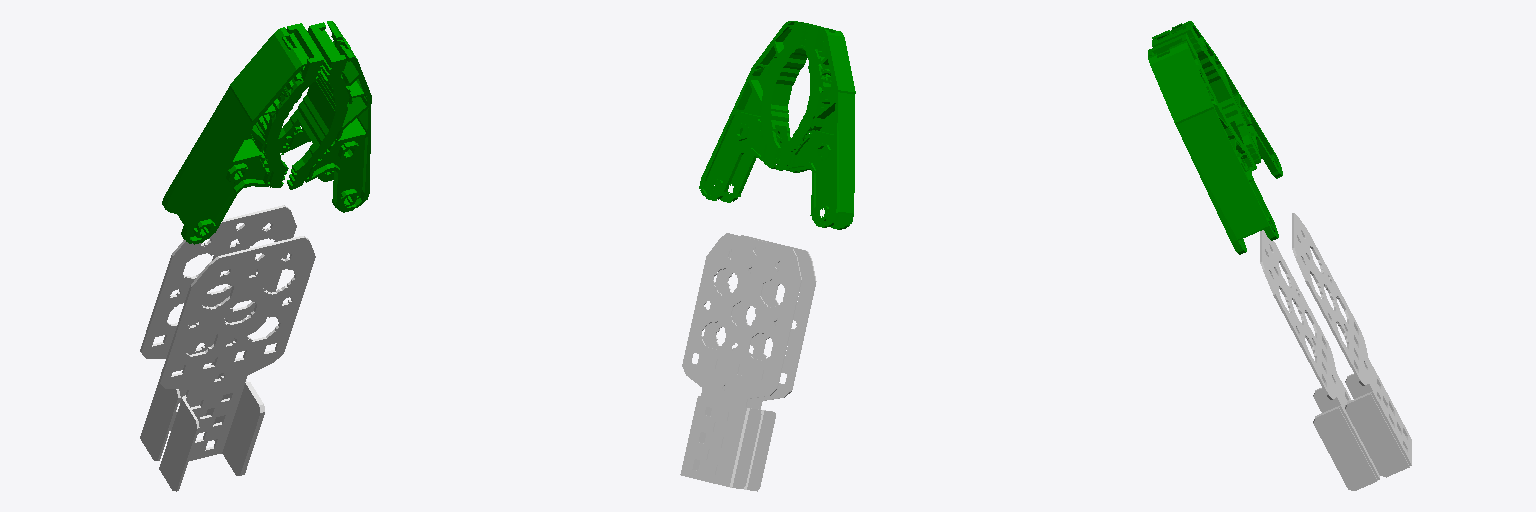
URDF robot description (cobot):
<?xml version="1.0" ?>
<!-- =================================================================================== -->
<!-- |    This document was autogenerated by xacro from [local-path]/catkin_ros/src/cobot_description/urdf/cobot.xacro | -->
<!-- |    EDITING THIS FILE BY HAND IS NOT RECOMMENDED                                 | -->
<!-- =================================================================================== -->
<robot name="cobot">
    <link name="base_link">
        <inertial>
            <origin rpy="0 0 0" xyz="-4.6941E-06 0.054174 0.038824" />
            <mass value="0.7102" />
            <inertia ixx="0.0039943" ixy="3.697E-07" ixz="-5.7364E-08" iyy="0.0014946" iyz="-0.00036051" izz="0.0042554" />
        </inertial>
        <visual>
            <origin rpy="0 0 0" xyz="0 0 0" />
            <geometry>
                <mesh filename="package://cobot_description/meshes/base_link.STL" />
            </geometry>
            <material name="">
                <color rgba="0.8 0.8 0.8 1" />
            </material>
        </visual>
        <collision>
            <origin rpy="0 0 0" xyz="0 0 0" />
            <geometry>
                <mesh filename="package://cobot_description/meshes/base_link.STL" />
            </geometry>
        </collision>
    </link>
    <link name="link_1">
        <inertial>
            <origin rpy="0 0 0" xyz="-0.022706 0.04294 -0.12205" />
            <mass value="0.88065" />
            <inertia ixx="0.0034" ixy="0.00042296" ixz="-0.00089231" iyy="0.0041778" iyz="0.0010848" izz="0.0027077" />
        </inertial>
        <visual>
            <origin rpy="0 0 0" xyz="0 0 0" />
            <geometry>
                <mesh filename="package://cobot_description/meshes/link_1.STL" />
            </geometry>
            <material name="">
                <color rgba="0.8 0.8 0.8 1" />
            </material>
        </visual>
        <collision>
            <origin rpy="0 0 0" xyz="0 0 0" />
            <geometry>
                <mesh filename="package://cobot_description/meshes/link_1.STL" />
            </geometry>
        </collision>
    </link>
    <joint name="joint_1" type="continuous">
        <origin rpy="3.1416 -1.0248E-21 -1.6736E-05" xyz="0 0 0.003445" />
        <parent link="base_link" />
        <child link="link_1" />
        <axis xyz="0 0 1" />
    </joint>
    <link name="link_2">
        <inertial>
            <origin rpy="0 0 0" xyz="0.064818 -0.11189 -0.038671" />
            <mass value="0.57738" />
            <inertia ixx="0.0047312" ixy="0.0022624" ixz="0.00032144" iyy="0.0020836" iyz="-0.00056569" izz="0.0056129" />
        </inertial>
        <visual>
            <origin rpy="0 0 0" xyz="0 0 0" />
            <geometry>
                <mesh filename="package://cobot_description/meshes/link_2.STL" />
            </geometry>
            <material name="">
                <color rgba="0.8 0.8 0.8 1" />
            </material>
        </visual>
        <collision>
            <origin rpy="0 0 0" xyz="0 0 0" />
            <geometry>
                <mesh filename="package://cobot_description/meshes/link_2.STL" />
            </geometry>
        </collision>
    </link>
    <joint name="joint_2" type="continuous">
        <origin rpy="1.5708 0.5236 -1.5708" xyz="0 0.064146 -0.16608" />
        <parent link="link_1" />
        <child link="link_2" />
        <axis xyz="0 0 -1" />
    </joint>
    <link name="link_3">
        <inertial>
            <origin rpy="0 0 0" xyz="-0.00029765 -0.023661 -1.04720367321" />
            <mass value="0.1787" />
            <inertia ixx="0.0001685" ixy="-2.7713E-05" ixz="5.6885E-06" iyy="0.00012865" iyz="2.9256E-05" izz="0.00020744" />
        </inertial>
        <visual>
            <origin rpy="0 0 0" xyz="0 0 0" />
            <geometry>
                <mesh filename="package://cobot_description/meshes/link_3.STL" />
            </geometry>
            <material name="">
                <color rgba="0.8 0.8 0.8 1" />
            </material>
        </visual>
        <collision>
            <origin rpy="0 0 0" xyz="0 0 0" />
            <geometry>
                <mesh filename="package://cobot_description/meshes/link_3.STL" />
            </geometry>
        </collision>
    </link>
    <joint name="joint_3" type="continuous">
        <origin rpy="3.3431E-16 -1.4164E-16 -1.4953816339" xyz="0.1525 -0.26414 0" />
        <parent link="link_2" />
        <child link="link_3" />
        <axis xyz="0 0 -1" />
    </joint>
    <link name="link_4">
        <inertial>
            <origin rpy="0 0 0" xyz="-0.0016798 -0.00057319 -0.074404" />
            <mass value="0.34936" />
            <inertia ixx="0.0030532" ixy="-1.8615E-05" ixz="-7.0047E-05" iyy="0.0031033" iyz="-2.3301E-05" izz="0.00022264" />
        </inertial>
        <visual>
            <origin rpy="0 0 0" xyz="0 0 0" />
            <geometry>
                <mesh filename="package://cobot_description/meshes/link_4.STL" />
            </geometry>
            <material name="">
                <color rgba="0.8 0.8 0.8 1" />
            </material>
        </visual>
        <collision>
            <origin rpy="0 0 0" xyz="0 0 0" />
            <geometry>
                <mesh filename="package://cobot_description/meshes/link_4.STL" />
            </geometry>
        </collision>
    </link>
    <joint name="joint_4" type="continuous">
        <origin rpy="1.5708 -1.2554 -1.5708" xyz="0 0 0.00675" />
        <parent link="link_3" />
        <child link="link_4" />
        <axis xyz="0 0 -1" />
    </joint>
    <link name="link_5">
        <inertial>
            <origin rpy="0 0 0" xyz="0.0015066 -1.3102E-05 -0.012585" />
            <mass value="0.11562" />
            <inertia ixx="5.5035E-05" ixy="-1.019E-08" ixz="-2.6243E-06" iyy="8.2921E-05" iyz="1.4437E-08" izz="5.2518E-05" />
        </inertial>
        <visual>
            <origin rpy="0 0 0" xyz="0 0 0" />
            <geometry>
                <mesh filename="package://cobot_description/meshes/link_5.STL" />
            </geometry>
            <material name="">
                <color rgba="0.8 0.8 0.8 1" />
            </material>
        </visual>
        <collision>
            <origin rpy="0 0 0" xyz="0 0 0" />
            <geometry>
                <mesh filename="package://cobot_description/meshes/link_5.STL" />
            </geometry>
        </collision>
    </link>
    <joint name="joint_5" type="continuous">
        <origin rpy="3.1416 0 -2.8262" xyz="0 0 -0.22225" />
        <parent link="link_4" />
        <child link="link_5" />
        <axis xyz="-1 0 0" />
    </joint>
    <link name="link_6">
        <inertial>
            <origin rpy="0 0 0" xyz="2.9287E-10 -1.6472E-09 0.0091432" />
            <mass value="0.013863" />
            <inertia ixx="1.3596E-06" ixy="3.0585E-13" ixz="5.7102E-14" iyy="1.7157E-06" iyz="6.3369E-09" izz="2.4332E-06" />
        </inertial>
        <visual>
            <origin rpy="0 0 0" xyz="0 0 0" />
            <geometry>
                <mesh filename="package://cobot_description/meshes/link_6.STL" />
            </geometry>
            <material name="">
                <color rgba="0.8 0.8 0.8 1" />
            </material>
        </visual>
        <collision>
            <origin rpy="0 0 0" xyz="0 0 0" />
            <geometry>
                <mesh filename="package://cobot_description/meshes/link_6.STL" />
            </geometry>
        </collision>
    </link>
    <joint name="joint_6" type="continuous">
        <origin rpy="0 0 3.1416" xyz="-0.000294 0 0.02117" />
        <parent link="link_5" />
        <child link="link_6" />
        <axis xyz="0 0 1" />
    </joint>
    <joint name="ar3_gripper_joint" type="fixed">
        <parent link="link_6" />
        <child link="ar3_hand" />
        <origin rpy="0 0 -1.5707963267948966" xyz="0 0 0.023" />
    </joint>
    <link name="ar3_hand">
        <visual>
            <geometry>
                <!-- mesh filename="package://cobot_description/meshes/visual/hand.dae"/ -->
                <mesh filename="package://cobot_description/meshes/gripper/CLAW-BASE-REVISED.stl" />
            </geometry>
            <material name="">
                <color rgba="0.9 0.9 0.9 1" />
            </material>
        </visual>
        <collision>
            <geometry>
                <!-- mesh filename="package://cobot_description/meshes/collision/hand.stl"/ -->
                <mesh filename="package://cobot_description/meshes/gripper/CLAW-BASE-REVISED.stl" />
            </geometry>
        </collision>
        <inertial>
            <mass value="0.1" />
            <origin xyz="0 0 0" rpy="0 0 0" />
            <inertia ixx="0.03" iyy="0.03" izz="0.03" ixy="0.0" ixz="0.0" iyz="0.0" />
        </inertial>
    </link>
    <link name="ar3_leftfinger">
        <visual>
            <geometry>
                <mesh filename="package://cobot_description/meshes/gripper/CLAW-FINGER-REVISED.stl" />
            </geometry>
            <material name="">
                <color rgba="0 0.63 0 1" />
            </material>
        </visual>
        <collision>
            <geometry>
                <mesh filename="package://cobot_description/meshes/gripper/CLAW-FINGER-REVISED.stl" />
            </geometry>
        </collision>
        <inertial>
            <mass value="0.1" />
            <origin xyz="0 0 0" rpy="0 0 0" />
            <inertia ixx="0.03" iyy="0.03" izz="0.03" ixy="0.0" ixz="0.0" iyz="0.0" />
        </inertial>
    </link>
    <link name="ar3_rightfinger">
        <visual>
            <origin rpy="0 0 3.141592653589793" xyz="0 0 0" />
            <geometry>
                <mesh filename="package://cobot_description/meshes/gripper/CLAW-FINGER-REVISED.stl" />
            </geometry>
            <material name="">
                <color rgba="0 0.63 0 1" />
            </material>
        </visual>
        <collision>
            <origin rpy="0 0 3.141592653589793" xyz="0 0 0" />
            <geometry>
                <mesh filename="package://cobot_description/meshes/gripper/CLAW-FINGER-REVISED.stl" />
            </geometry>
        </collision>
        <inertial>
            <mass value="0.1" />
            <origin xyz="0 0 0" rpy="0 0 0" />
            <inertia ixx="0.03" iyy="0.03" izz="0.03" ixy="0.0" ixz="0.0" iyz="0.0" />
        </inertial>
    </link>
    <joint name="ar3_finger_joint1" type="prismatic">
        <parent link="ar3_hand" />
        <child link="ar3_leftfinger" />
        <!-- origin xyz="0 0 0.0584" rpy="0 0 0"/ -->
        <origin rpy="0 0 0" xyz="0 0.019 0.128" />
        <!-- axis xyz="0 1 0"/ -->
        <axis xyz="0 1 -1.5" />
        <!-- limit effort="20" lower="0.0" upper="0.04" velocity="0.2"/ -->
        <limit effort="20" lower="0.0" upper="0.08" velocity="0.2" />
    </joint>
    <joint name="ar3_finger_joint2" type="prismatic">
        <parent link="ar3_hand" />
        <child link="ar3_rightfinger" />
        <!-- origin xyz="0 0 0.0584" rpy="0 0 0"/ -->
        <origin rpy="0 0 0" xyz="0 -0.019 0.128" />
        <!-- axis xyz="0 -1 0"/  -->
        <axis xyz="0 -1 -1.5" />
        <!-- limit effort="20" lower="0.0" upper="0.04" velocity="0.2"/ -->
        <limit effort="20" lower="0.0" upper="0.08" velocity="0.2" />
        <mimic joint="ar3_finger_joint1" />
    </joint>
    <transmission name="trans_joint_1">
        <type>transmission_interface/SimpleTransmission</type>
        <joint name="joint_1">
            <hardwareInterface>hardware_interface/EffortJointInterface</hardwareInterface>
        </joint>
        <actuator name="joint_1_motor">
            <hardwareInterface>hardware_interface/EffortJointInterface</hardwareInterface>
            <mechanicalReduction>1</mechanicalReduction>
        </actuator>
    </transmission>
    <transmission name="trans_joint_2">
        <type>transmission_interface/SimpleTransmission</type>
        <joint name="joint_2">
            <hardwareInterface>hardware_interface/EffortJointInterface</hardwareInterface>
        </joint>
        <actuator name="joint_2_motor">
            <hardwareInterface>hardware_interface/EffortJointInterface</hardwareInterface>
            <mechanicalReduction>1</mechanicalReduction>
        </actuator>
    </transmission>
    <transmission name="trans_joint_3">
        <type>transmission_interface/SimpleTransmission</type>
        <joint name="joint_3">
            <hardwareInterface>hardware_interface/EffortJointInterface</hardwareInterface>
        </joint>
        <actuator name="joint_3_motor">
            <hardwareInterface>hardware_interface/EffortJointInterface</hardwareInterface>
            <mechanicalReduction>1</mechanicalReduction>
        </actuator>
    </transmission>
    <transmission name="trans_joint_4">
        <type>transmission_interface/SimpleTransmission</type>
        <joint name="joint_4">
            <hardwareInterface>hardware_interface/EffortJointInterface</hardwareInterface>
        </joint>
        <actuator name="joint_4_motor">
            <hardwareInterface>hardware_interface/EffortJointInterface</hardwareInterface>
            <mechanicalReduction>1</mechanicalReduction>
        </actuator>
    </transmission>
    <transmission name="trans_joint_5">
        <type>transmission_interface/SimpleTransmission</type>
        <joint name="joint_5">
            <hardwareInterface>hardware_interface/EffortJointInterface</hardwareInterface>
        </joint>
        <actuator name="joint_5_motor">
            <hardwareInterface>hardware_interface/EffortJointInterface</hardwareInterface>
            <mechanicalReduction>1</mechanicalReduction>
        </actuator>
    </transmission>
    <transmission name="trans_joint_6">
        <type>transmission_interface/SimpleTransmission</type>
        <joint name="joint_6">
            <hardwareInterface>hardware_interface/EffortJointInterface</hardwareInterface>
        </joint>
        <actuator name="joint_6_motor">
            <hardwareInterface>hardware_interface/EffortJointInterface</hardwareInterface>
            <mechanicalReduction>1</mechanicalReduction>
        </actuator>
    </transmission>
    <transmission name="trans_ar3_finger_joint1">
        <type>transmission_interface/SimpleTransmission</type>
        <joint name="ar3_finger_joint1">
            <hardwareInterface>hardware_interface/EffortJointInterface</hardwareInterface>
        </joint>
        <actuator name="ar3_finger_joint1_motor">
            <hardwareInterface>hardware_interface/EffortJointInterface</hardwareInterface>
            <mechanicalReduction>1</mechanicalReduction>
        </actuator>
    </transmission>
    <transmission name="trans_ar3_finger_joint2">
        <type>transmission_interface/SimpleTransmission</type>
        <joint name="ar3_finger_joint2">
            <hardwareInterface>hardware_interface/EffortJointInterface</hardwareInterface>
        </joint>
        <actuator name="ar3_finger_joint2_motor">
            <hardwareInterface>hardware_interface/EffortJointInterface</hardwareInterface>
            <mechanicalReduction>1</mechanicalReduction>
        </actuator>
    </transmission>
    <gazebo>
        <plugin name="gazebo_ros_control">
            <robotNamespace>/</robotNamespace>
        </plugin>
    </gazebo>
</robot>

--- What the picture shows (computed from the rendered views, not written in the file) ---
3 views of the same robot in one strip: view 1: azimuth 30°, elevation 25°; view 2: azimuth 150°, elevation 25°; view 3: azimuth 270°, elevation 25° (orthographic).
Model cobot with 10 links and 9 joints (6 continuous, 2 prismatic, 1 fixed), rooted at base_link, posed all joints at 0.
Visible links, largest first — view 1: ar3_hand, ar3_leftfinger, ar3_rightfinger; view 2: ar3_hand, ar3_leftfinger, ar3_rightfinger; view 3: ar3_hand, ar3_rightfinger, ar3_leftfinger.
Boxes of the visible links, x1,y1,x2,y2 form: ar3_hand: (140, 205, 315, 491); ar3_leftfinger: (162, 23, 324, 244); ar3_rightfinger: (278, 21, 371, 212); ar3_hand: (680, 233, 816, 491); ar3_leftfinger: (776, 25, 855, 229); ar3_rightfinger: (699, 21, 820, 202); ar3_hand: (1260, 213, 1411, 490); ar3_rightfinger: (1148, 33, 1278, 254); ar3_leftfinger: (1152, 21, 1282, 178).
Bounding box of the posed robot: 0.074 × 0.1116 × 0.2086 m (x, y, z).
3 mesh visuals loaded from 9 distinct referenced files (2 binary STL); not drawn: 7 (reference not matched to a file when rendering).